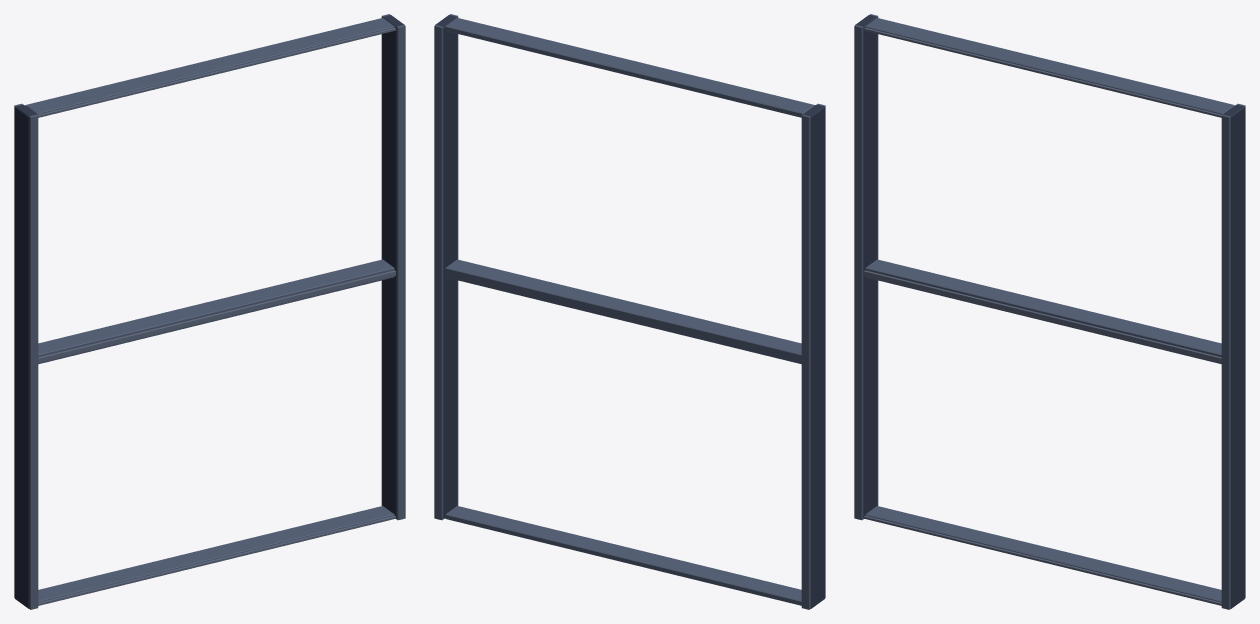
The model's file is bw_curtain_wall_frame.glb.
The picture shows the model from 3 angles, left to right: view 1: azimuth 30°, elevation 25°; view 2: azimuth 150°, elevation 25°; view 3: azimuth 330°, elevation 25°; orthographic projection.
Parts seen in each view (by area): view 1: pressure_cap, mullion, inner_bead; view 2: pressure_cap, mullion; view 3: pressure_cap, mullion, inner_bead.
Part boxes in pixels (left/top/right/bottom): pressure_cap: left=14, top=14, right=405, bottom=609; mullion: left=15, top=15, right=404, bottom=608; inner_bead: left=38, top=27, right=395, bottom=605; pressure_cap: left=434, top=14, right=825, bottom=609; mullion: left=435, top=15, right=824, bottom=608; pressure_cap: left=854, top=14, right=1245, bottom=609; mullion: left=855, top=15, right=1244, bottom=608; inner_bead: left=864, top=27, right=1221, bottom=605.
Bounding box in the file's own units: 4 × 5 × 0.3.
